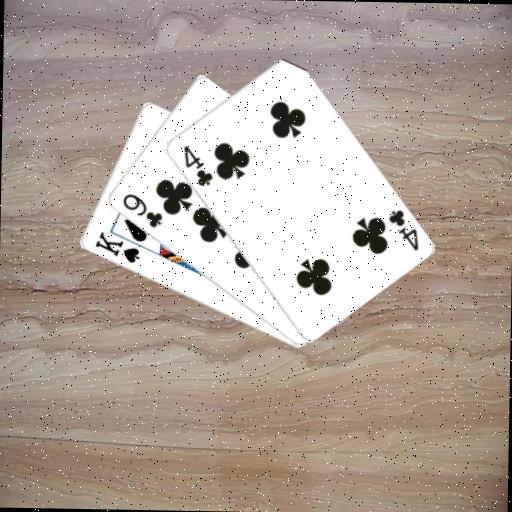4C: (179, 143, 215, 189), (385, 207, 421, 253)
9C: (118, 191, 164, 230)
KS: (91, 229, 142, 265)
